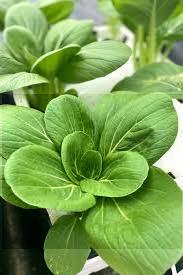Healthy-Pechay: (2, 104, 173, 213), (82, 167, 183, 275), (1, 35, 126, 77), (48, 95, 106, 171), (0, 39, 130, 70), (112, 1, 183, 57), (43, 213, 95, 275), (0, 67, 77, 107), (1, 0, 74, 40), (123, 60, 183, 100), (91, 89, 172, 110), (68, 19, 95, 42)
